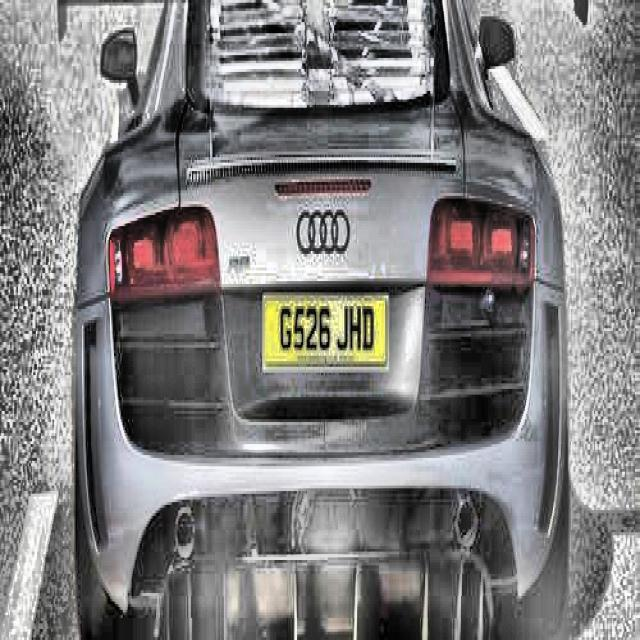license_plate: (262, 290, 392, 382)
